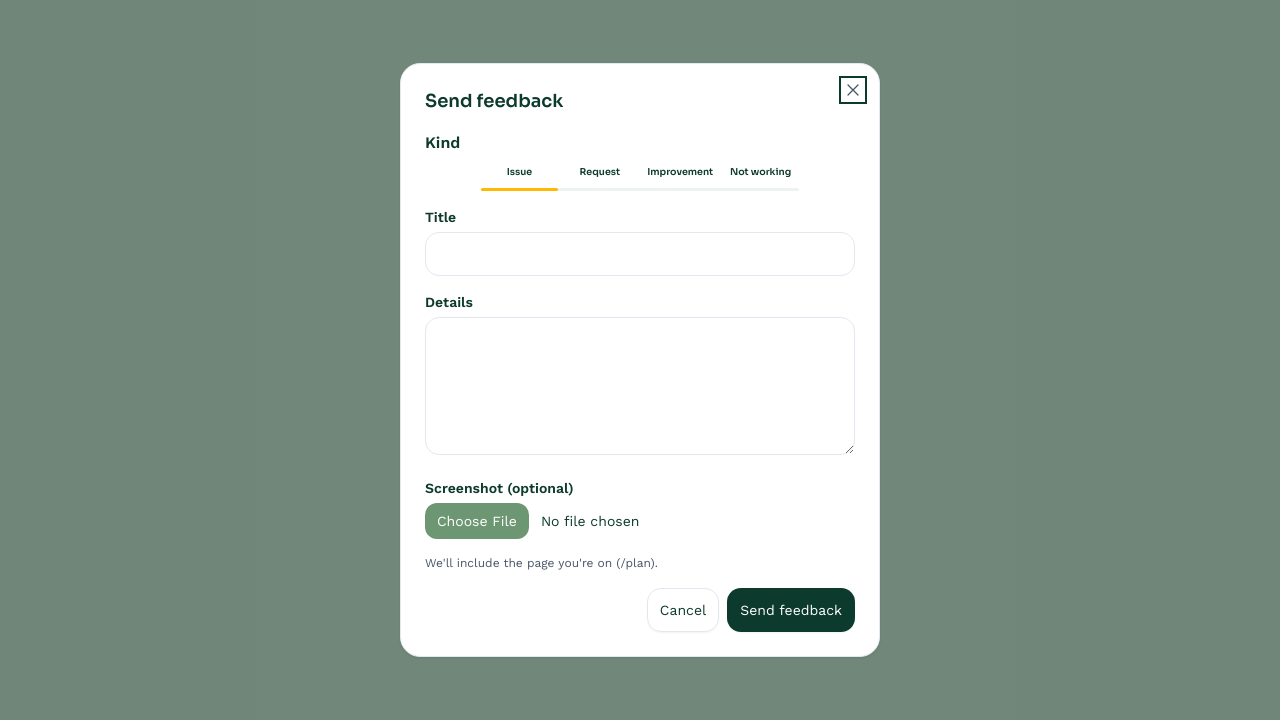
Test case: shows an API error and keeps the form open
Type "Plan is empty" into the field labelled "Title" at {"x": 640, "y": 254}, box x1=425 y1=232 x2=855 y2=276
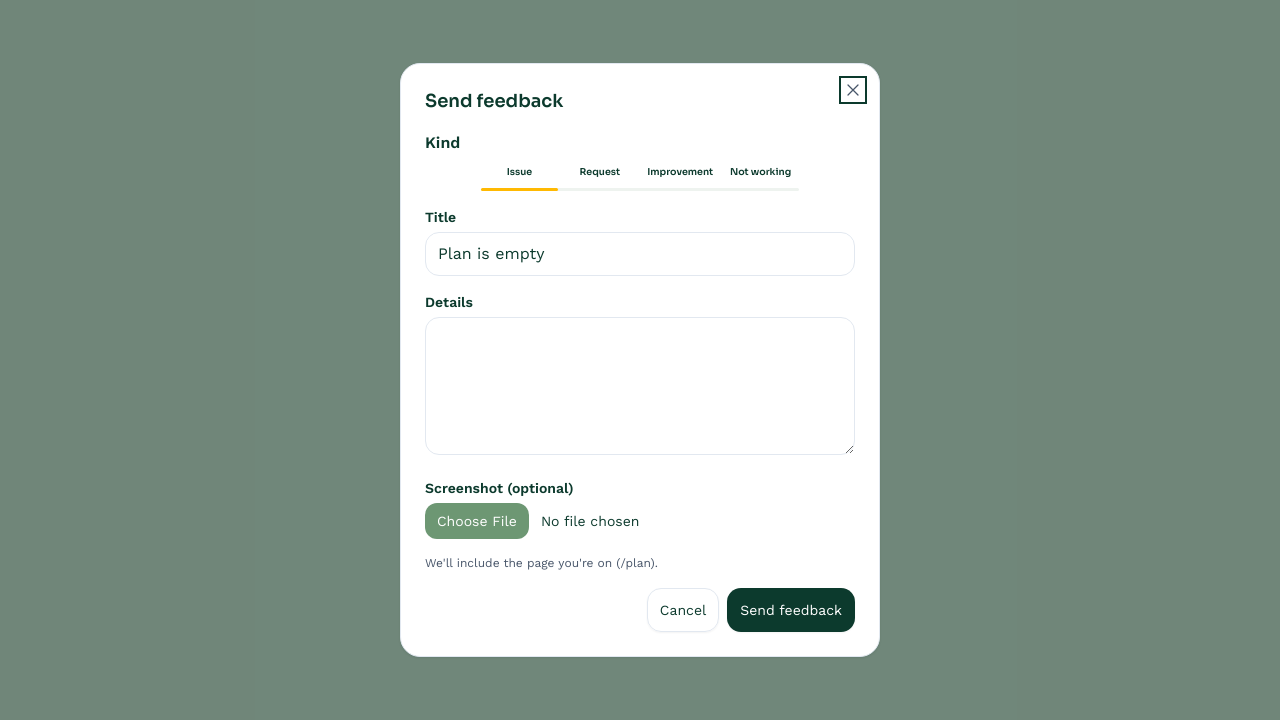
Type "Generated nothing for Monday" into the text box labelled "Details" at {"x": 640, "y": 386}, box x1=425 y1=317 x2=855 y2=455
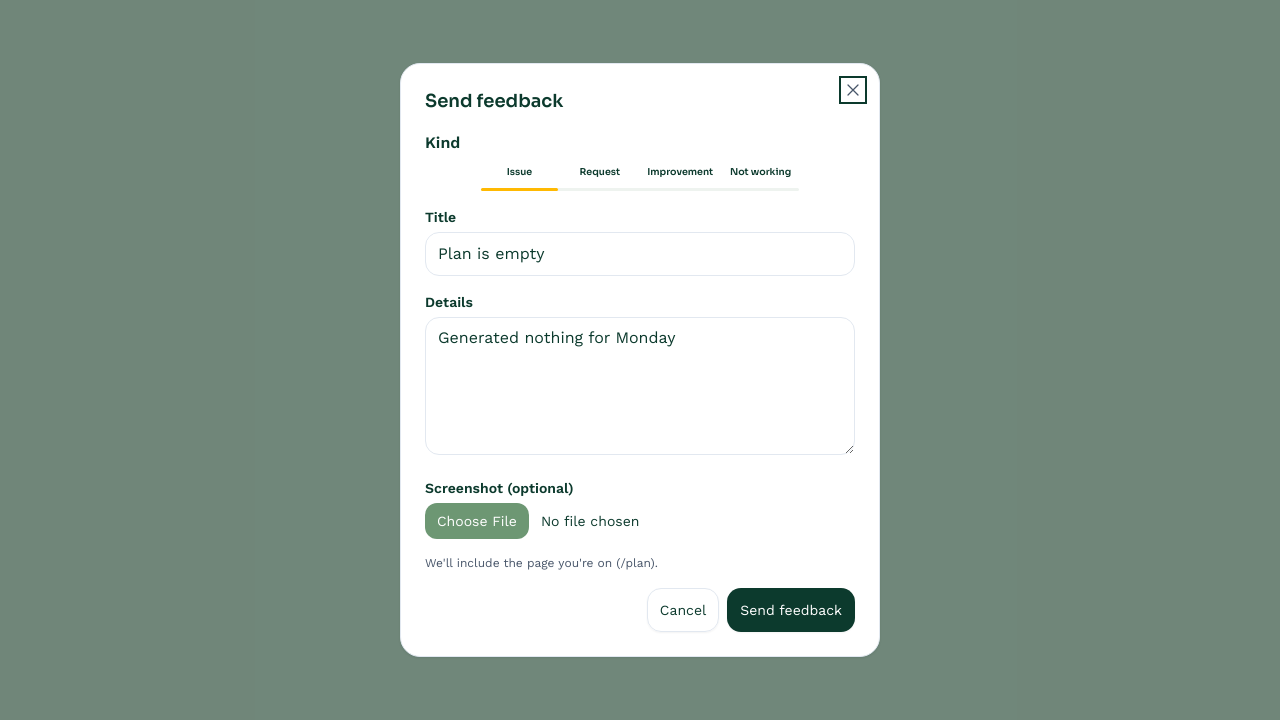
Click the button "Send feedback" at {"x": 791, "y": 610}, box x1=727 y1=588 x2=855 y2=632
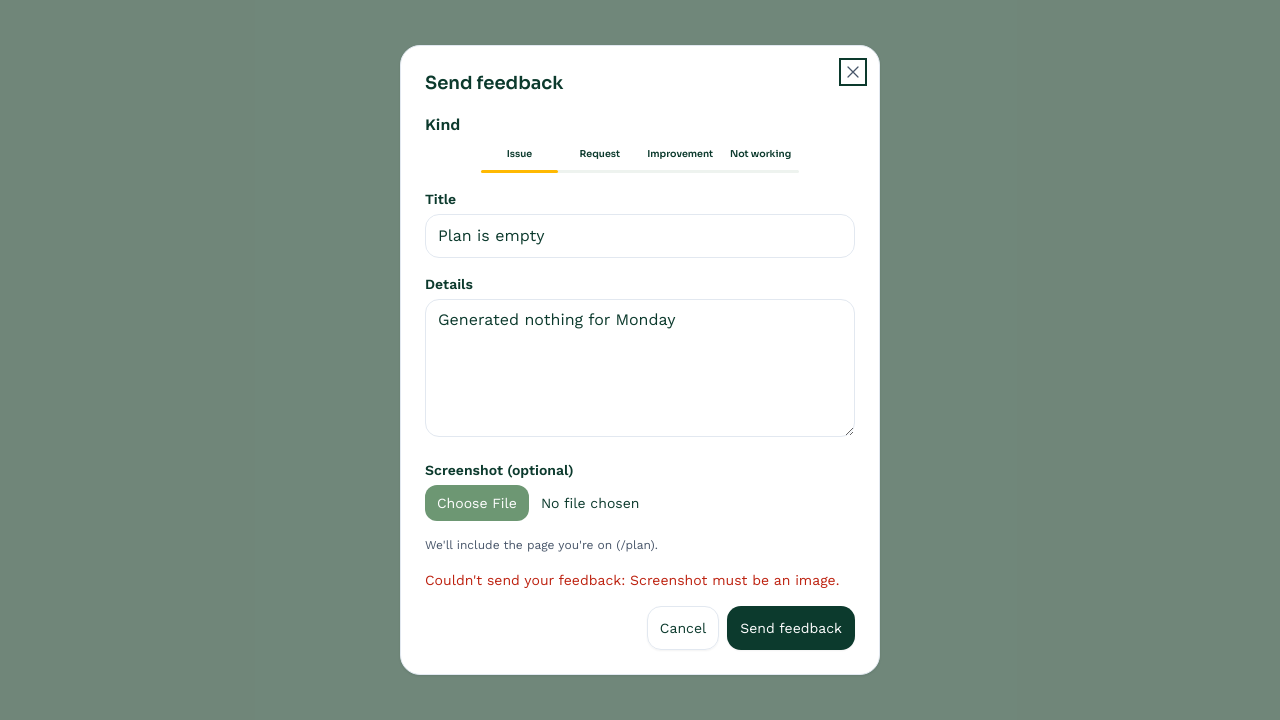
Now the text "Couldn't send your feedback: Screenshot must be an image." is shown, box x1=425 y1=570 x2=855 y2=590
